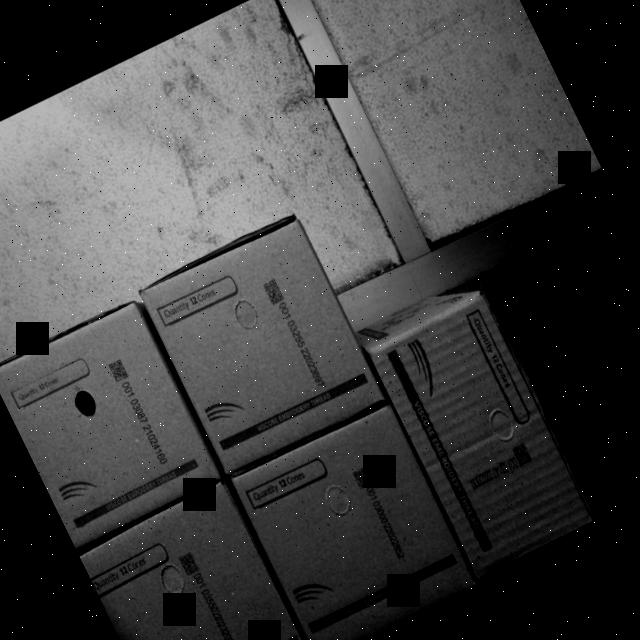box: (137, 212, 388, 476), (364, 291, 594, 578), (234, 406, 477, 640), (0, 292, 220, 541), (78, 483, 310, 640)
